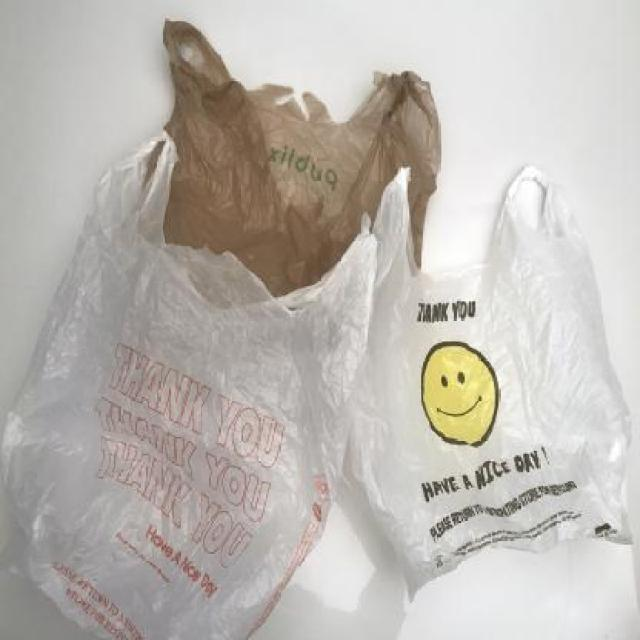plastic bag: (2, 140, 376, 635), (358, 172, 634, 596), (162, 14, 460, 294)
